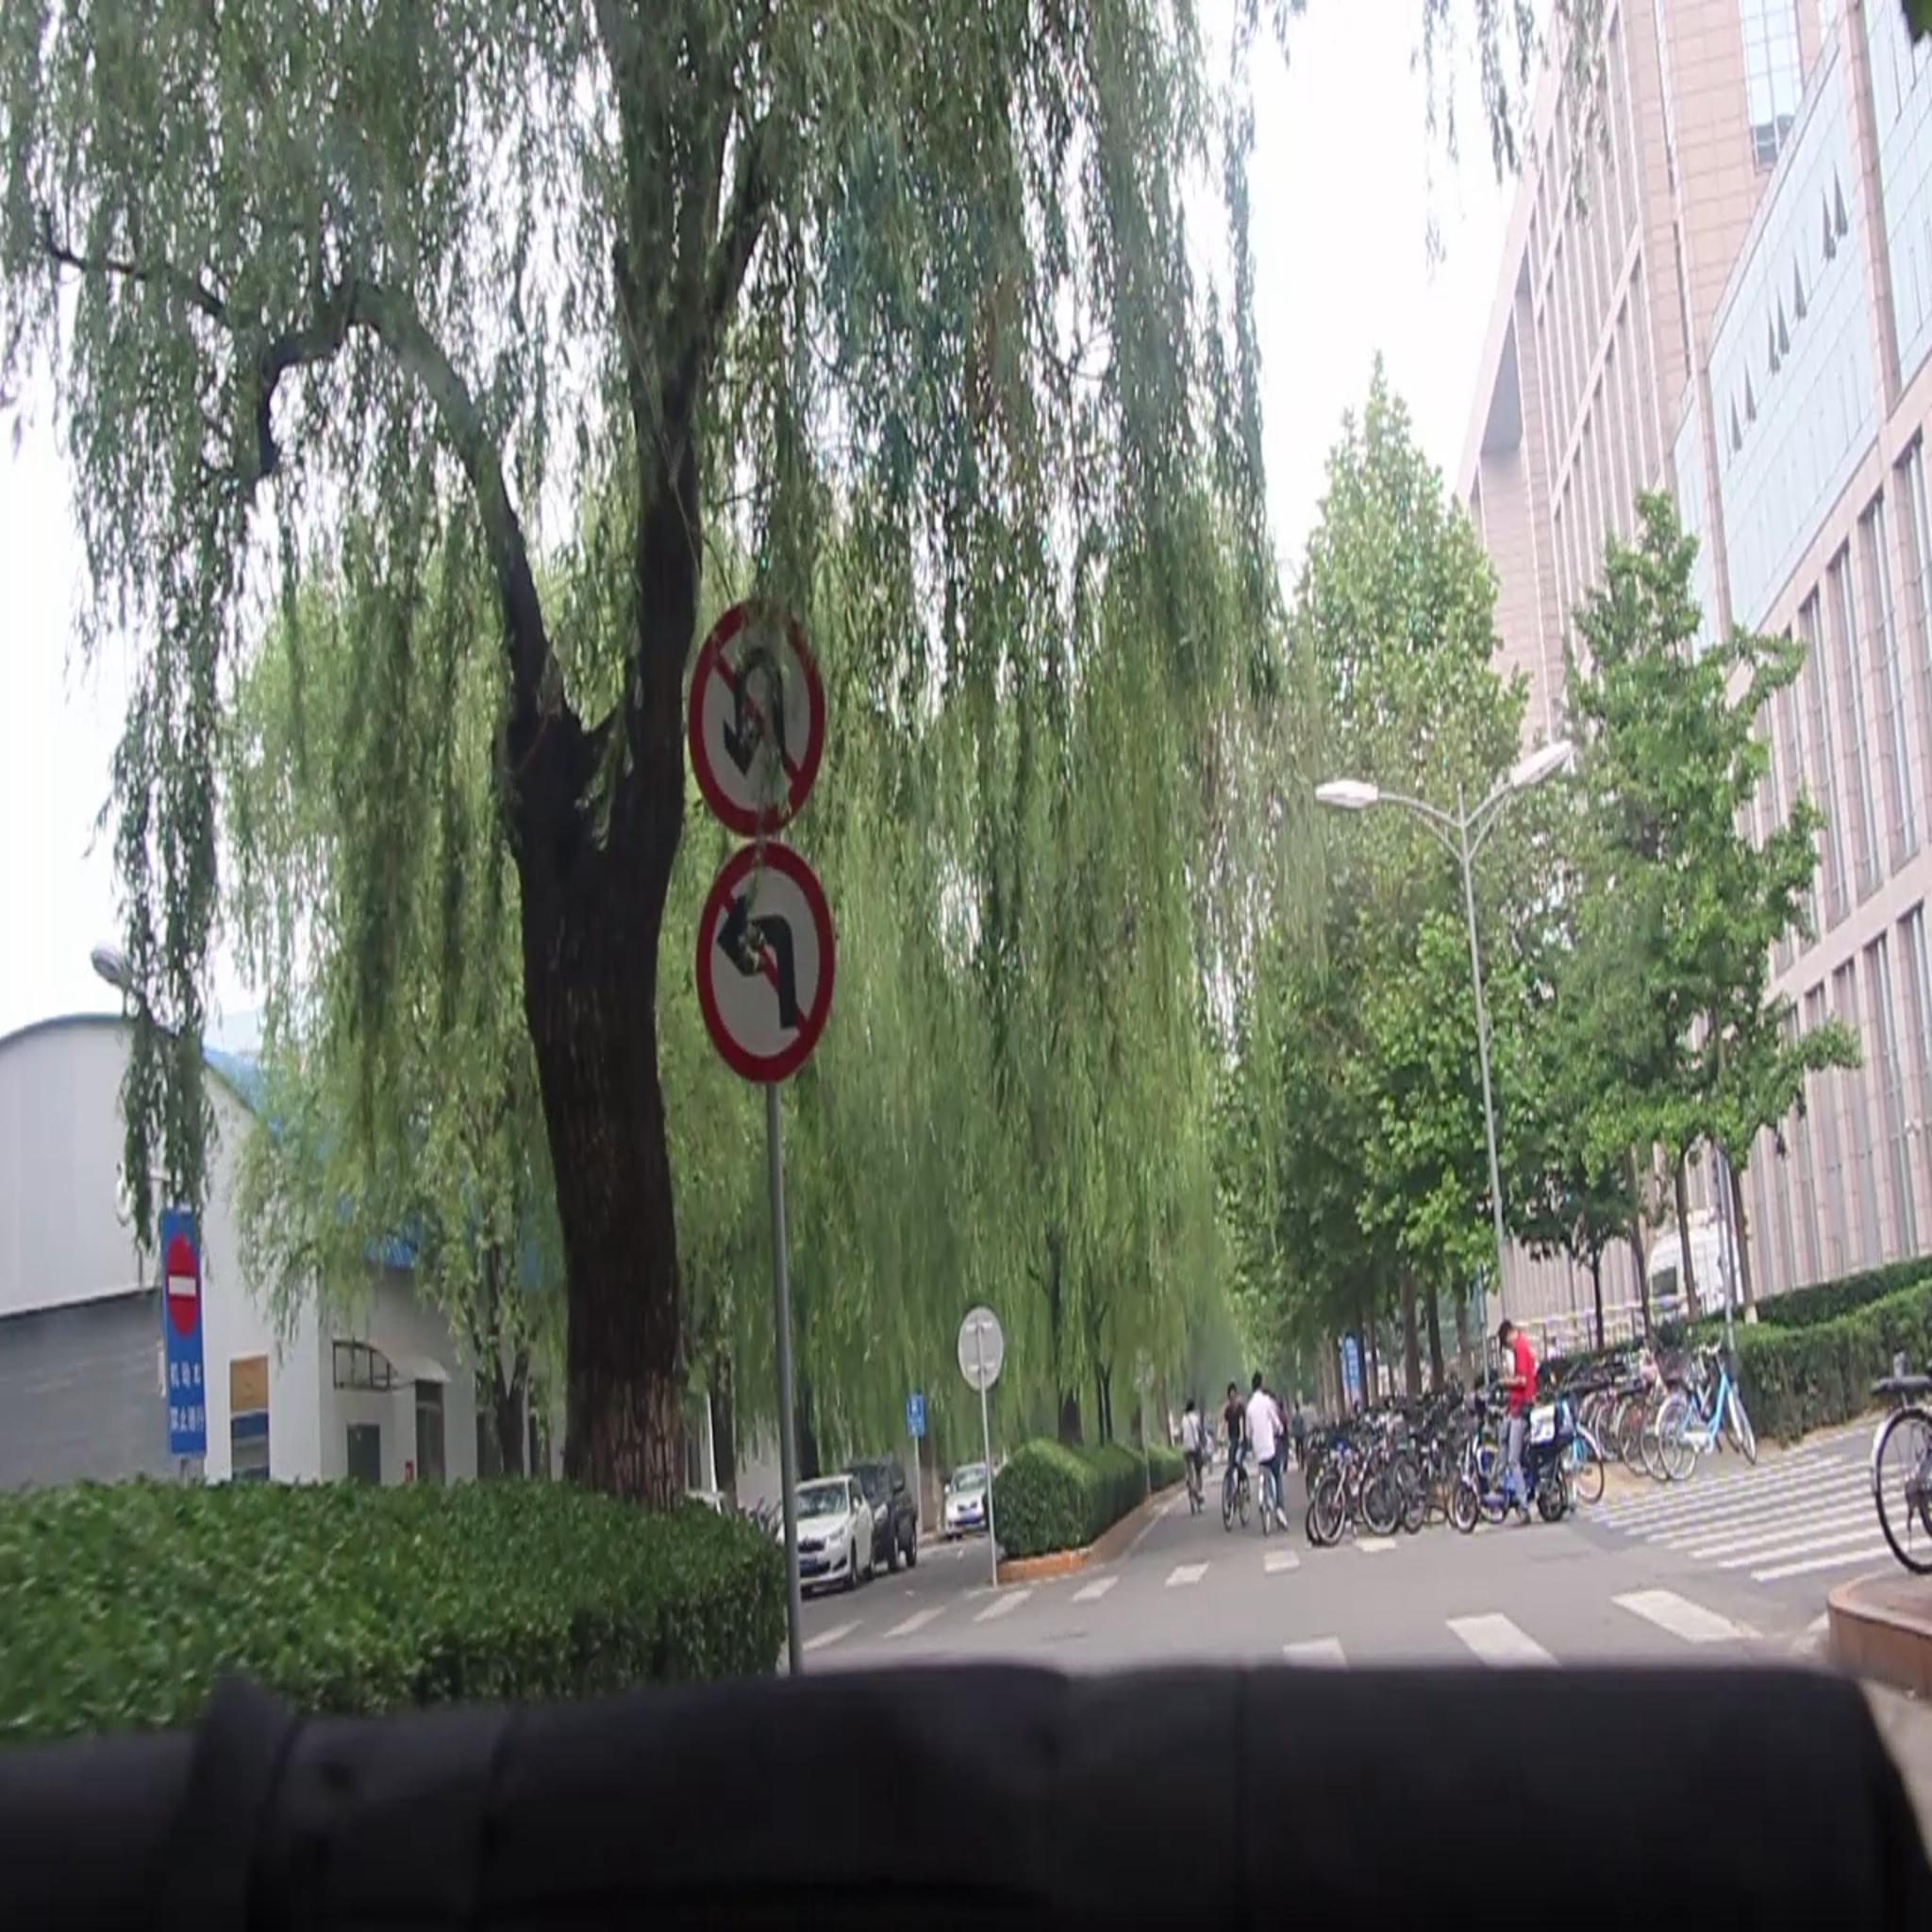p23: (699, 856, 835, 1083)
p5: (683, 600, 833, 844)
pne: (166, 1242, 205, 1343)
